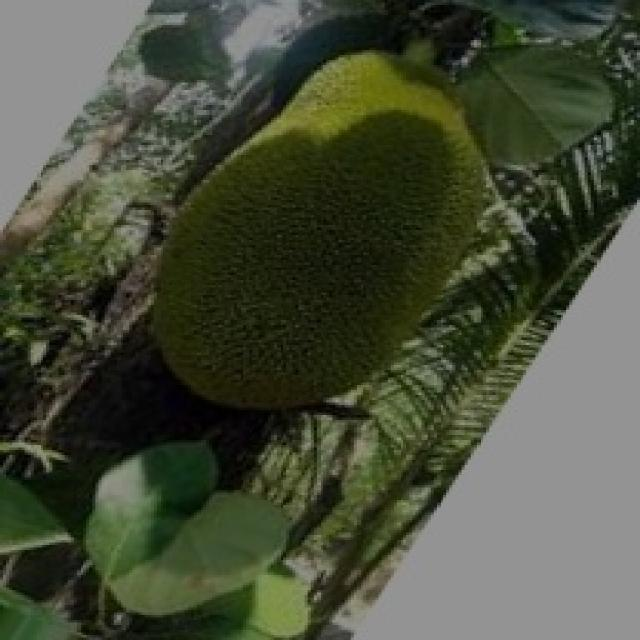Fruit: (126, 8, 539, 422)
